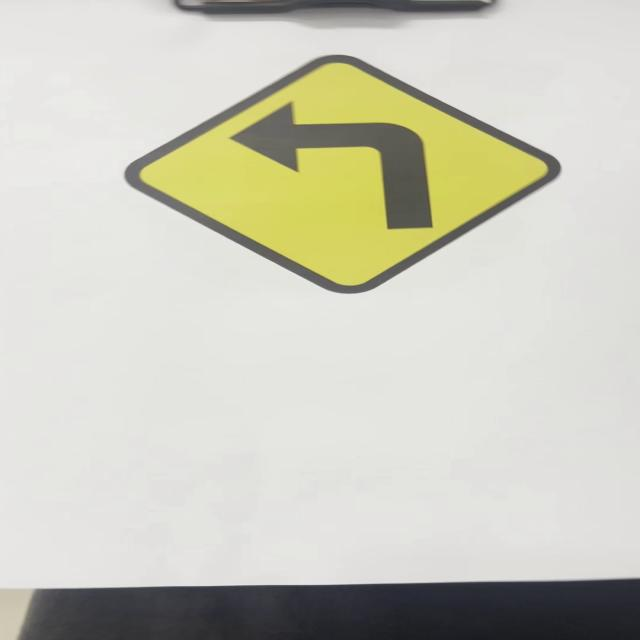left: (126, 42, 564, 295)
